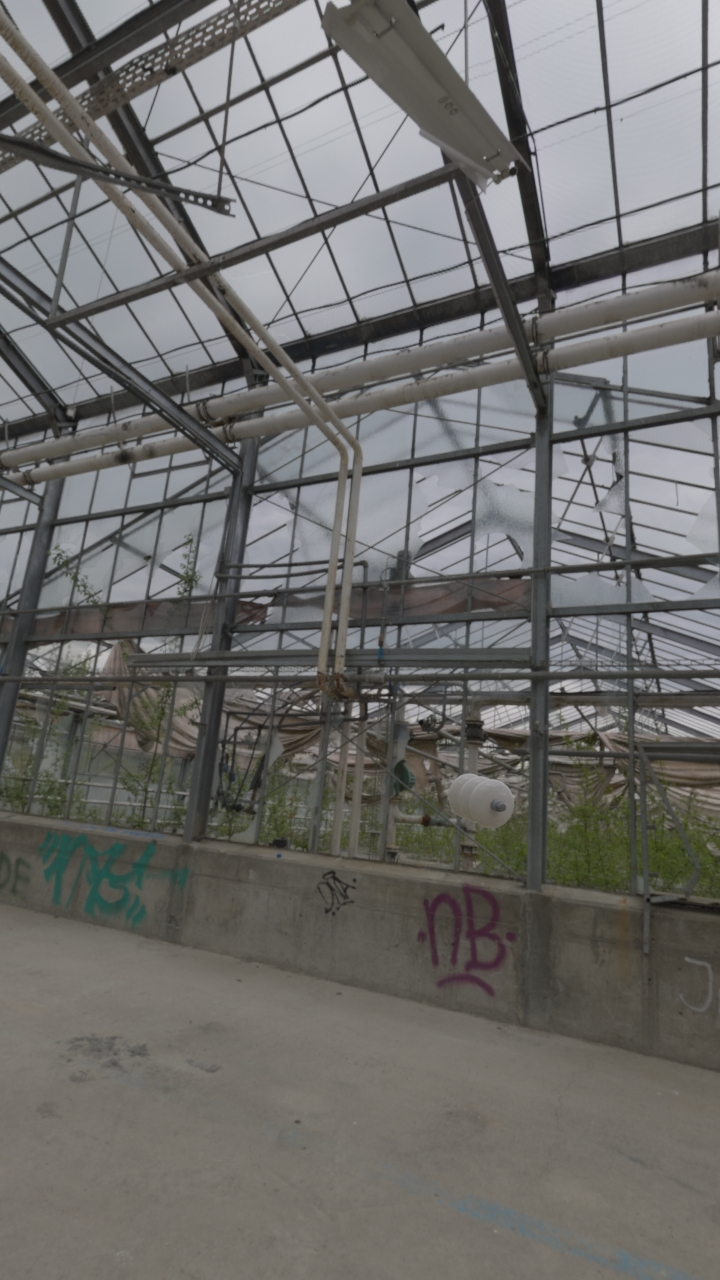ceramicinsulators: (448, 774, 514, 828)
